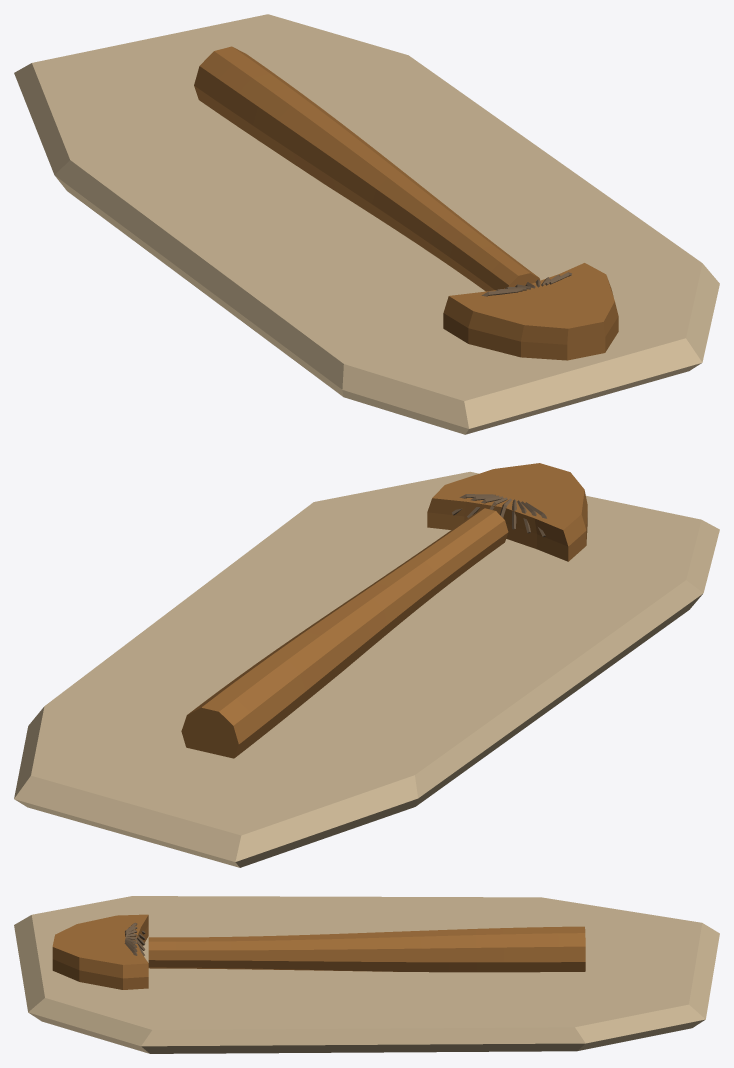
3 renders of one model, top to bottom at view 1: azimuth 30°, elevation 25°; view 2: azimuth 150°, elevation 25°; view 3: azimuth 270°, elevation 25°, orthographic. The views are drawn at different scales.
Parts seen in each view (by area): view 1: illustrative_sediment_support, mineralized_stalk, compressed_convex_cap; view 2: illustrative_sediment_support, mineralized_stalk, compressed_convex_cap, shallow_exposed_gill_relief; view 3: illustrative_sediment_support, mineralized_stalk, compressed_convex_cap, shallow_exposed_gill_relief.
Boxes of the visible parts, <box> form: illustrative_sediment_support: <box>14,14,719,434</box>; mineralized_stalk: <box>194,46,540,291</box>; compressed_convex_cap: <box>443,263,618,360</box>; illustrative_sediment_support: <box>14,471,719,867</box>; mineralized_stalk: <box>181,508,508,758</box>; compressed_convex_cap: <box>427,463,587,561</box>; shallow_exposed_gill_relief: <box>452,494,546,537</box>; illustrative_sediment_support: <box>14,896,719,1053</box>; mineralized_stalk: <box>148,926,585,972</box>; compressed_convex_cap: <box>52,914,148,989</box>; shallow_exposed_gill_relief: <box>124,922,145,955</box>.
Bounding box in the file's own units: 0.026 × 0.00485 × 0.055.
